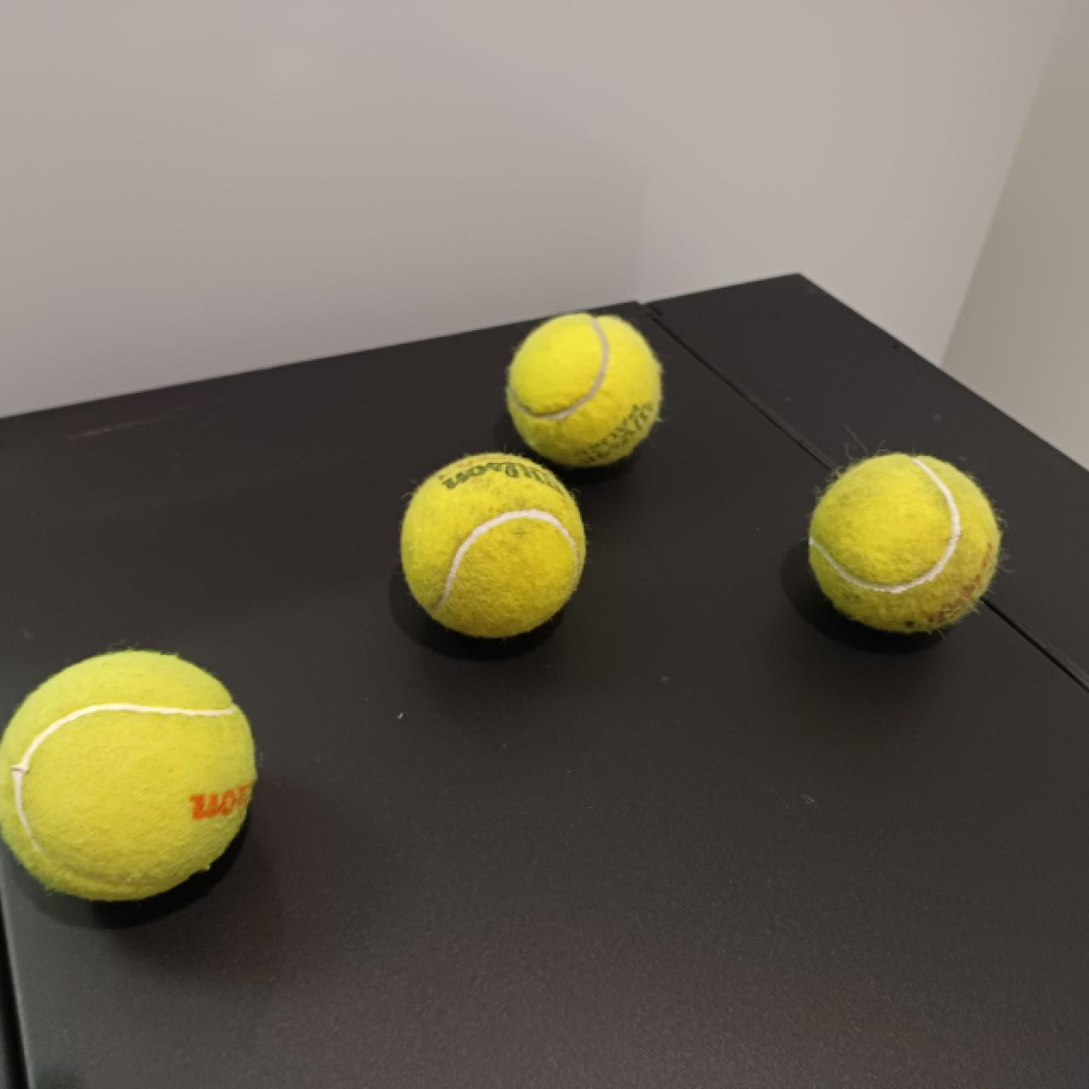tennis-ball: (0, 649, 261, 904), (809, 452, 999, 633), (399, 452, 584, 636), (503, 313, 667, 466)
